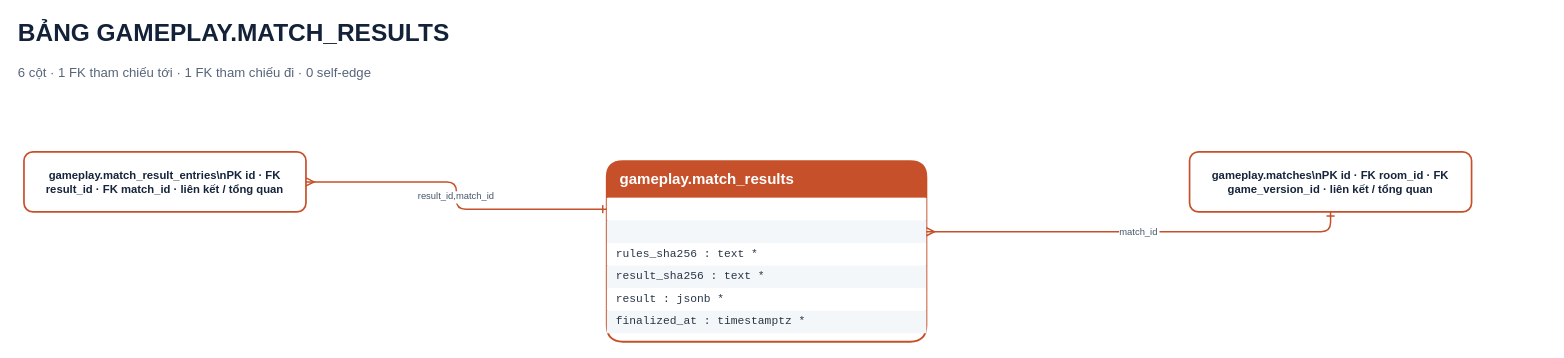
Image size: 1564x358. Some labels were removed from this diagram. The shapes that lost their labels are listed below. From the top down, each one's centre as x and y in pixels, then its label:
(x=766, y=208): PK id : uuid
(x=766, y=231): FK match_id : uuid *
